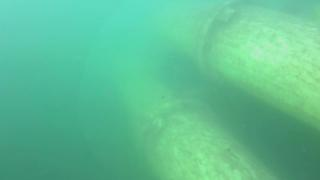pipe: (109, 61, 271, 180), (175, 1, 320, 132)
